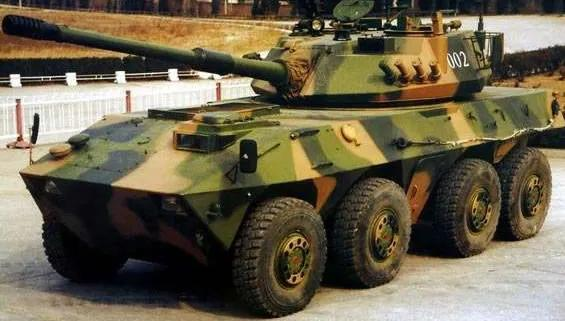MIL_IFV: (24, 6, 558, 317)
